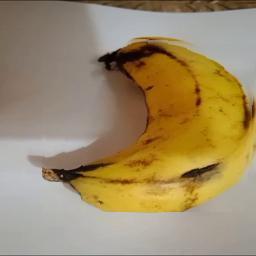Banana Semifresh: (42, 35, 256, 213)
